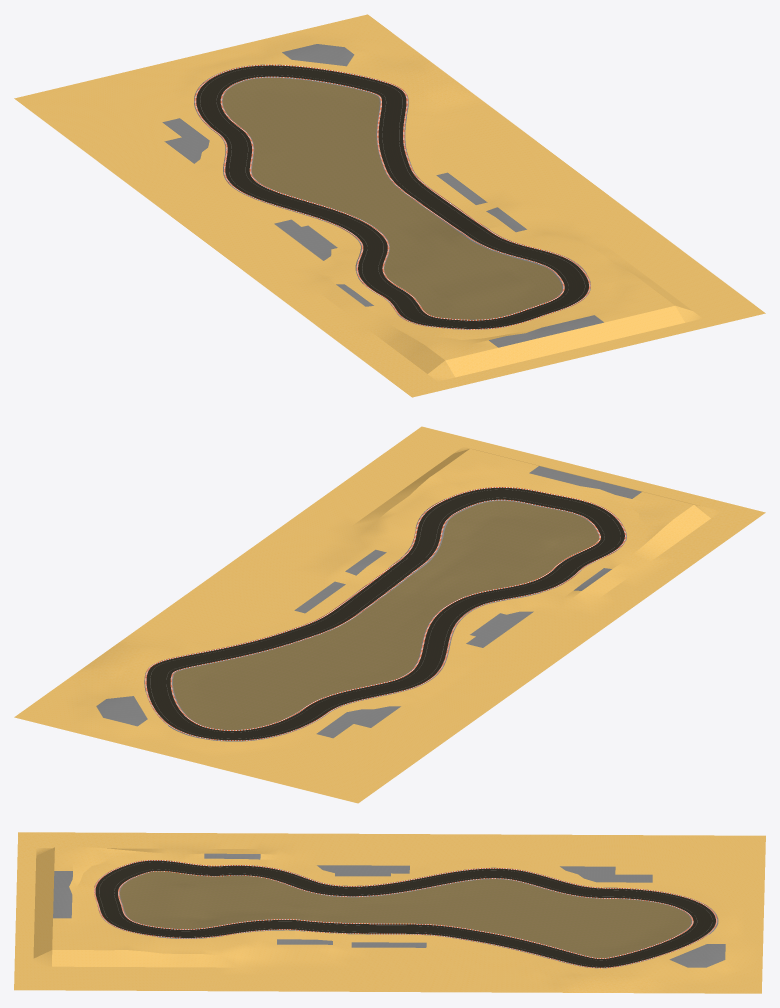
The model's file is track.glb.
The picture shows the model from 3 angles, top to bottom: view 1: azimuth 30°, elevation 25°; view 2: azimuth 150°, elevation 25°; view 3: azimuth 270°, elevation 25°; orthographic projection. The views are drawn at different scales.
Visible parts, largest first — view 1: Asphalt, CurbeOuter-col, CurbeInner-col; view 2: Asphalt, CurbeOuter-col, CurbeInner-col; view 3: Asphalt, CurbeOuter-col, CurbeInner-col.
Boxes of the visible parts, x1,y1,x2,y2 form: Asphalt: [14, 14, 765, 397]; CurbeOuter-col: [194, 64, 590, 329]; CurbeInner-col: [220, 76, 564, 320]; Asphalt: [14, 426, 765, 803]; CurbeOuter-col: [144, 487, 626, 741]; CurbeInner-col: [170, 499, 600, 730]; Asphalt: [14, 832, 765, 993]; CurbeOuter-col: [94, 860, 718, 968]; CurbeInner-col: [118, 871, 693, 958].
Bounding box in the file's own units: 409 × 11 × 804.
Materials: 7 (7 with a texture image).
